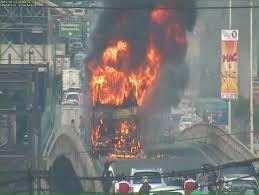fire: (85, 34, 161, 162), (88, 39, 162, 105)
